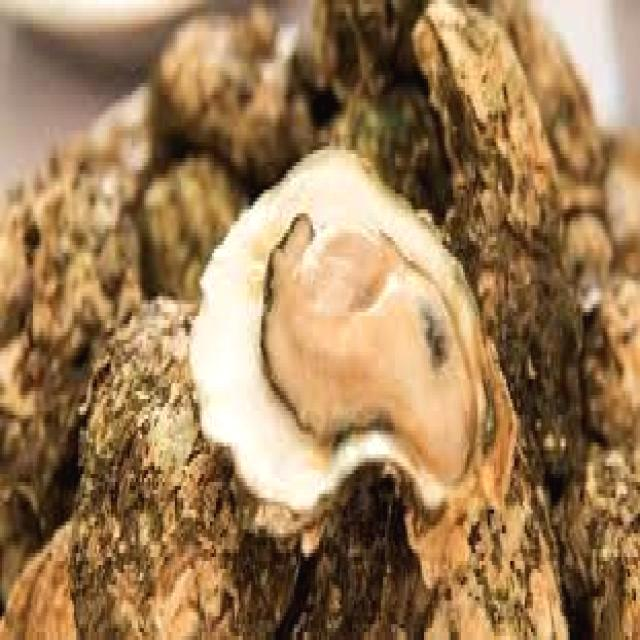Oyster-Closed: (399, 6, 586, 430), (57, 308, 285, 640), (406, 428, 590, 640), (4, 154, 144, 376), (308, 484, 444, 640), (550, 410, 640, 640), (132, 0, 255, 150), (140, 163, 262, 294), (226, 50, 330, 190), (299, 0, 425, 100), (322, 87, 443, 191), (4, 534, 114, 640)
Oyster-Open: (191, 148, 514, 512)
